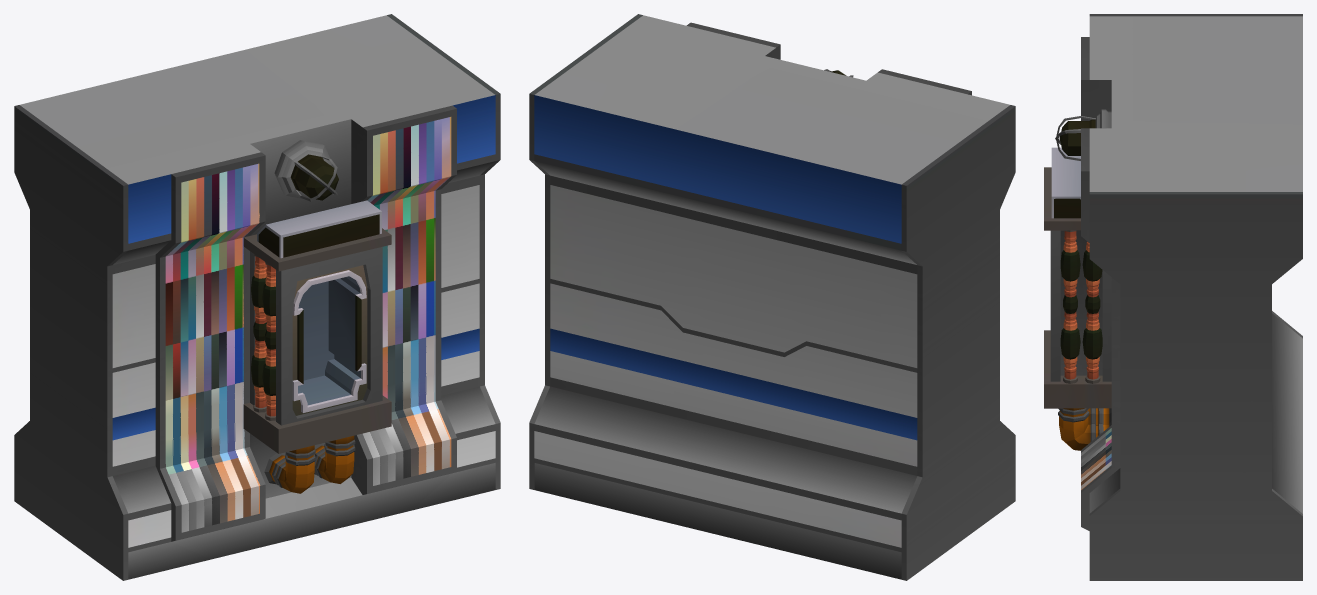
File: Pared_Connection.fbx
3 renders of one model, left to right at view 1: azimuth 30°, elevation 25°; view 2: azimuth 150°, elevation 25°; view 3: azimuth 270°, elevation 25°, orthographic. The views are drawn at different scales.
Parts seen in each view (by area): view 1: Connection, Shader_Efecto, light; view 2: Connection; view 3: Connection, light, Shader_Efecto.
Part boxes in pixels (<box>): Connection: <box>14,14,500,580</box>; Shader_Efecto: <box>165,117,451,532</box>; light: <box>274,140,338,201</box>; Connection: <box>529,14,1015,580</box>; Connection: <box>1044,14,1302,580</box>; light: <box>1055,109,1111,160</box>; Shader_Efecto: <box>1081,428,1111,489</box>.
Size of the model in its own units: 100 by 100 by 60.63.
